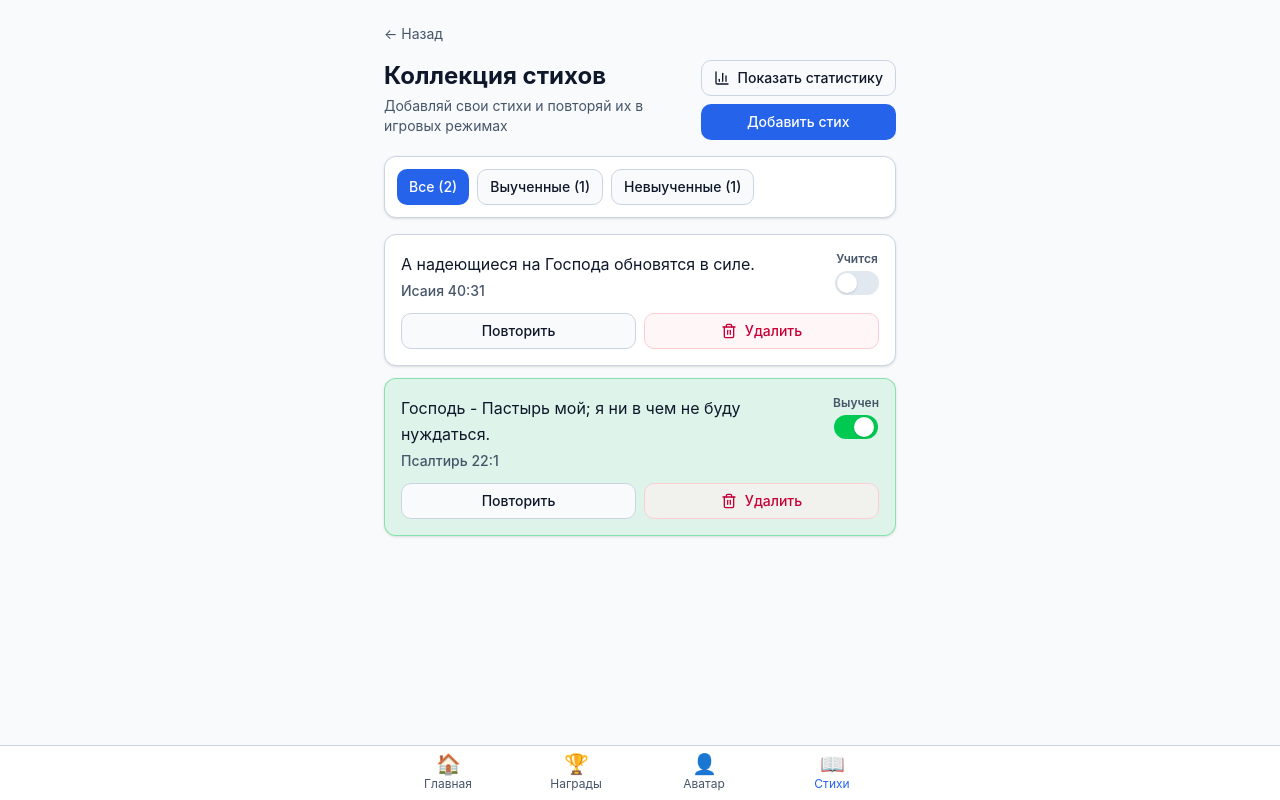
Scenario: CollectionPage (integration) › shows mastered and learning filters with correct verse lists
Expected: the heading "Коллекция стихов" is shown, [384, 61, 606, 90]
Expected: the button "Все (2)" is shown, [397, 169, 469, 205]
Click the button "Выученные (1)" at (540, 187), box [477, 169, 603, 205]
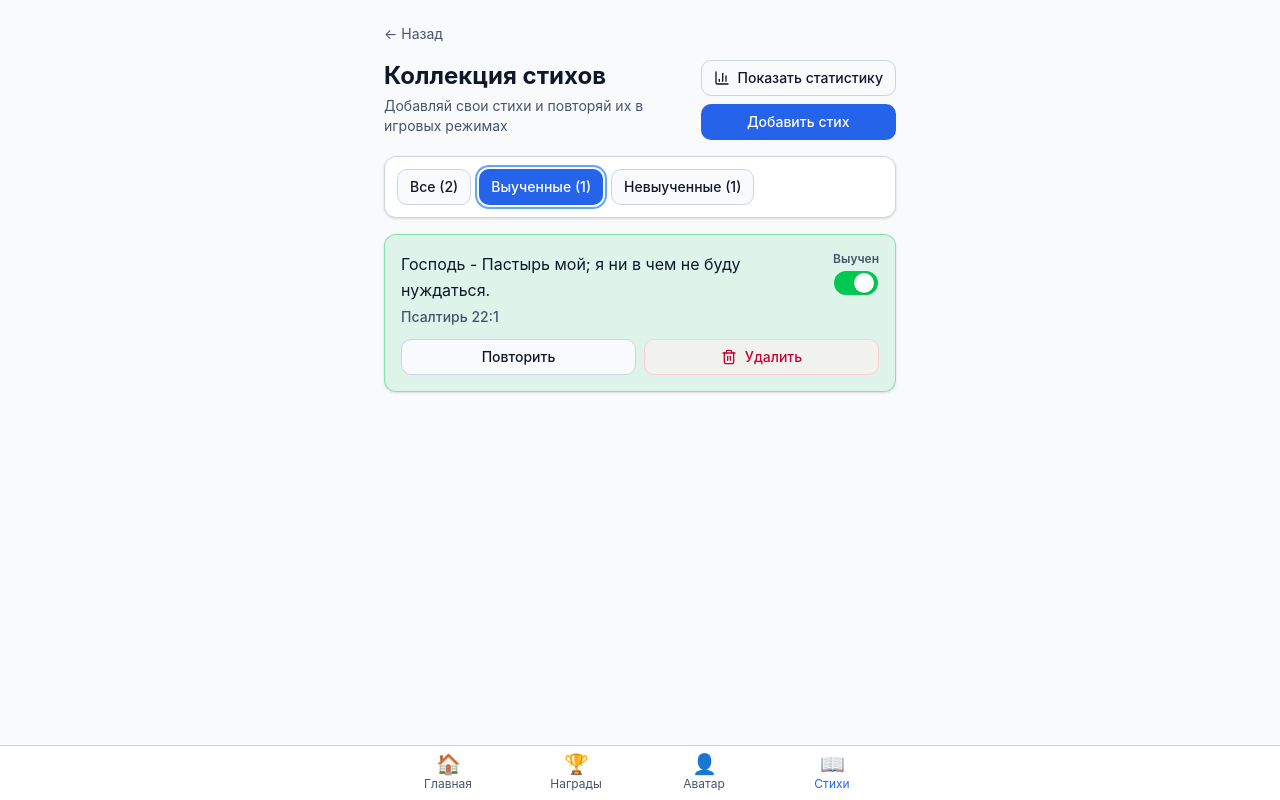
Expected: the text "Господь - Пастырь мой; я ни в чем не буду нуждаться." is shown, [401, 254, 740, 300]
Expected: the text "А надеющиеся на Господа обновятся в силе." is gone
Click the button "Невыученные (1)" at (683, 187), box [611, 169, 754, 205]
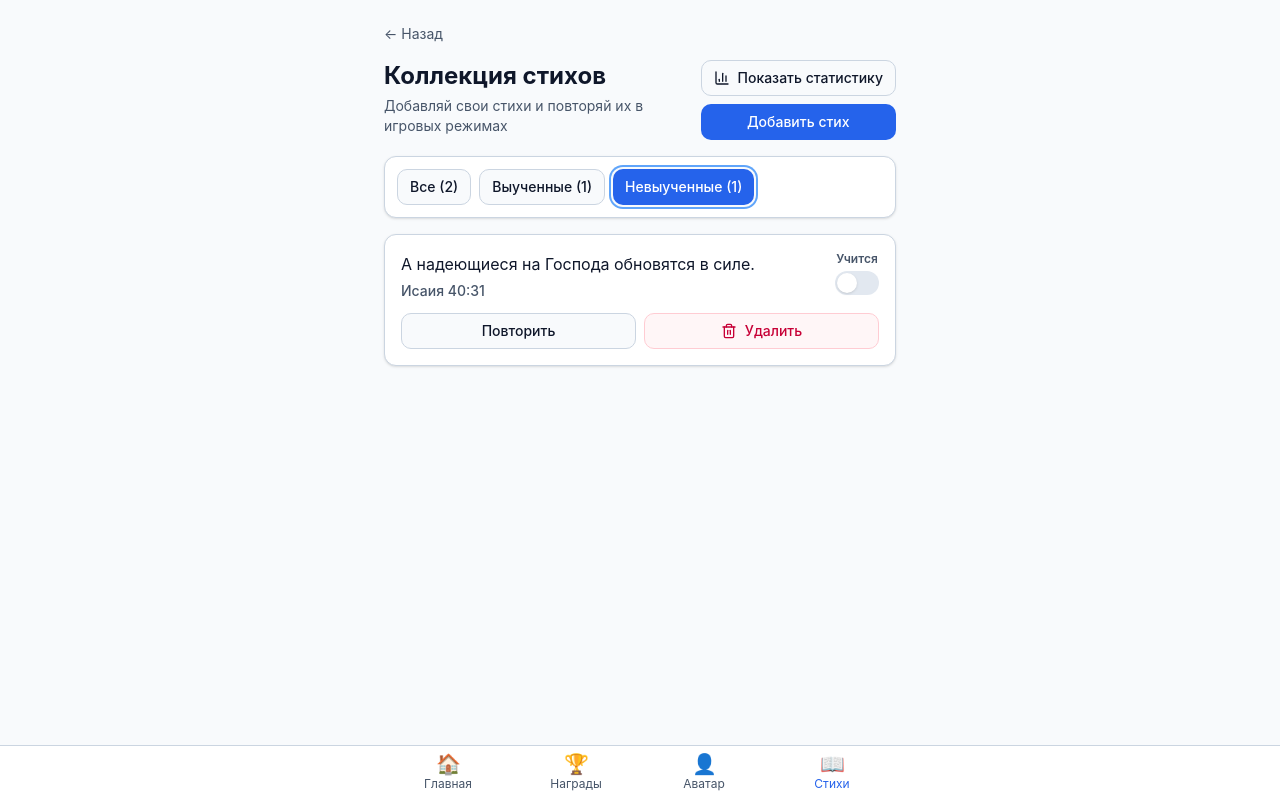
Expected: the text "А надеющиеся на Господа обновятся в силе." is shown, [401, 254, 755, 274]
Expected: the text "Господь - Пастырь мой; я ни в чем не буду нуждаться." is gone
